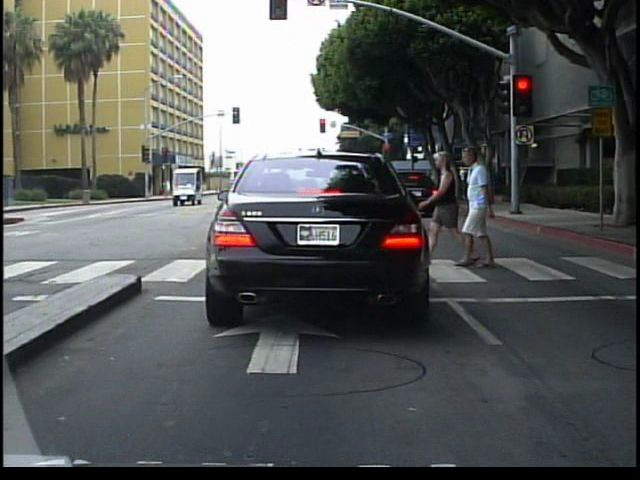person: (461, 138, 509, 267), (424, 144, 466, 242)
